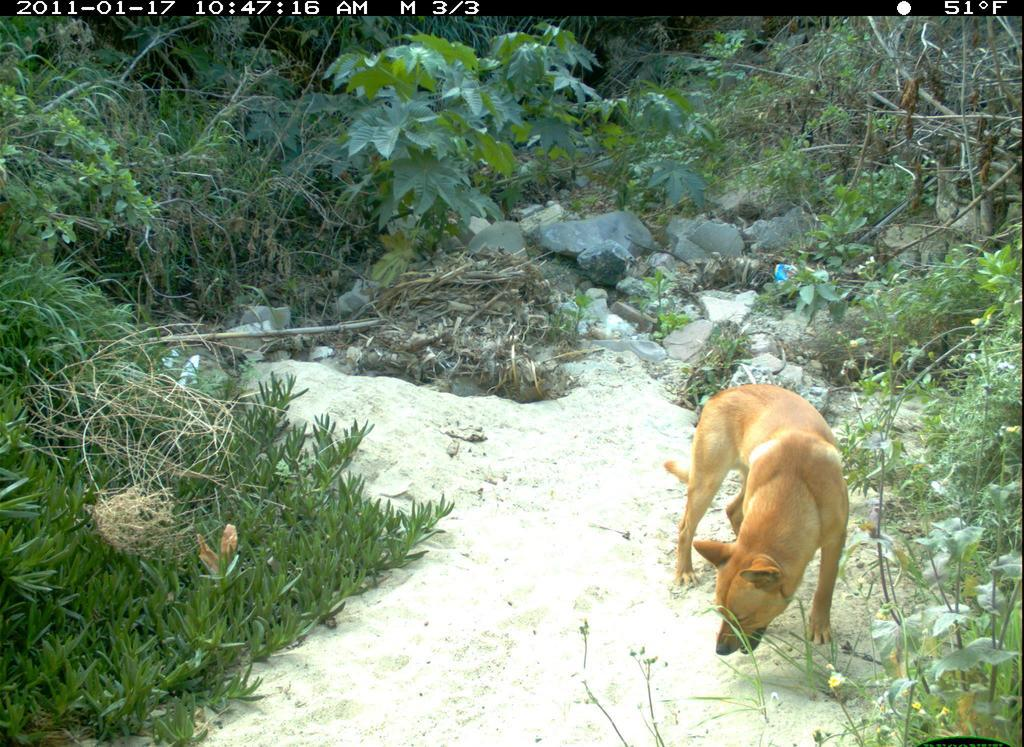dog: (666, 376, 866, 673)
